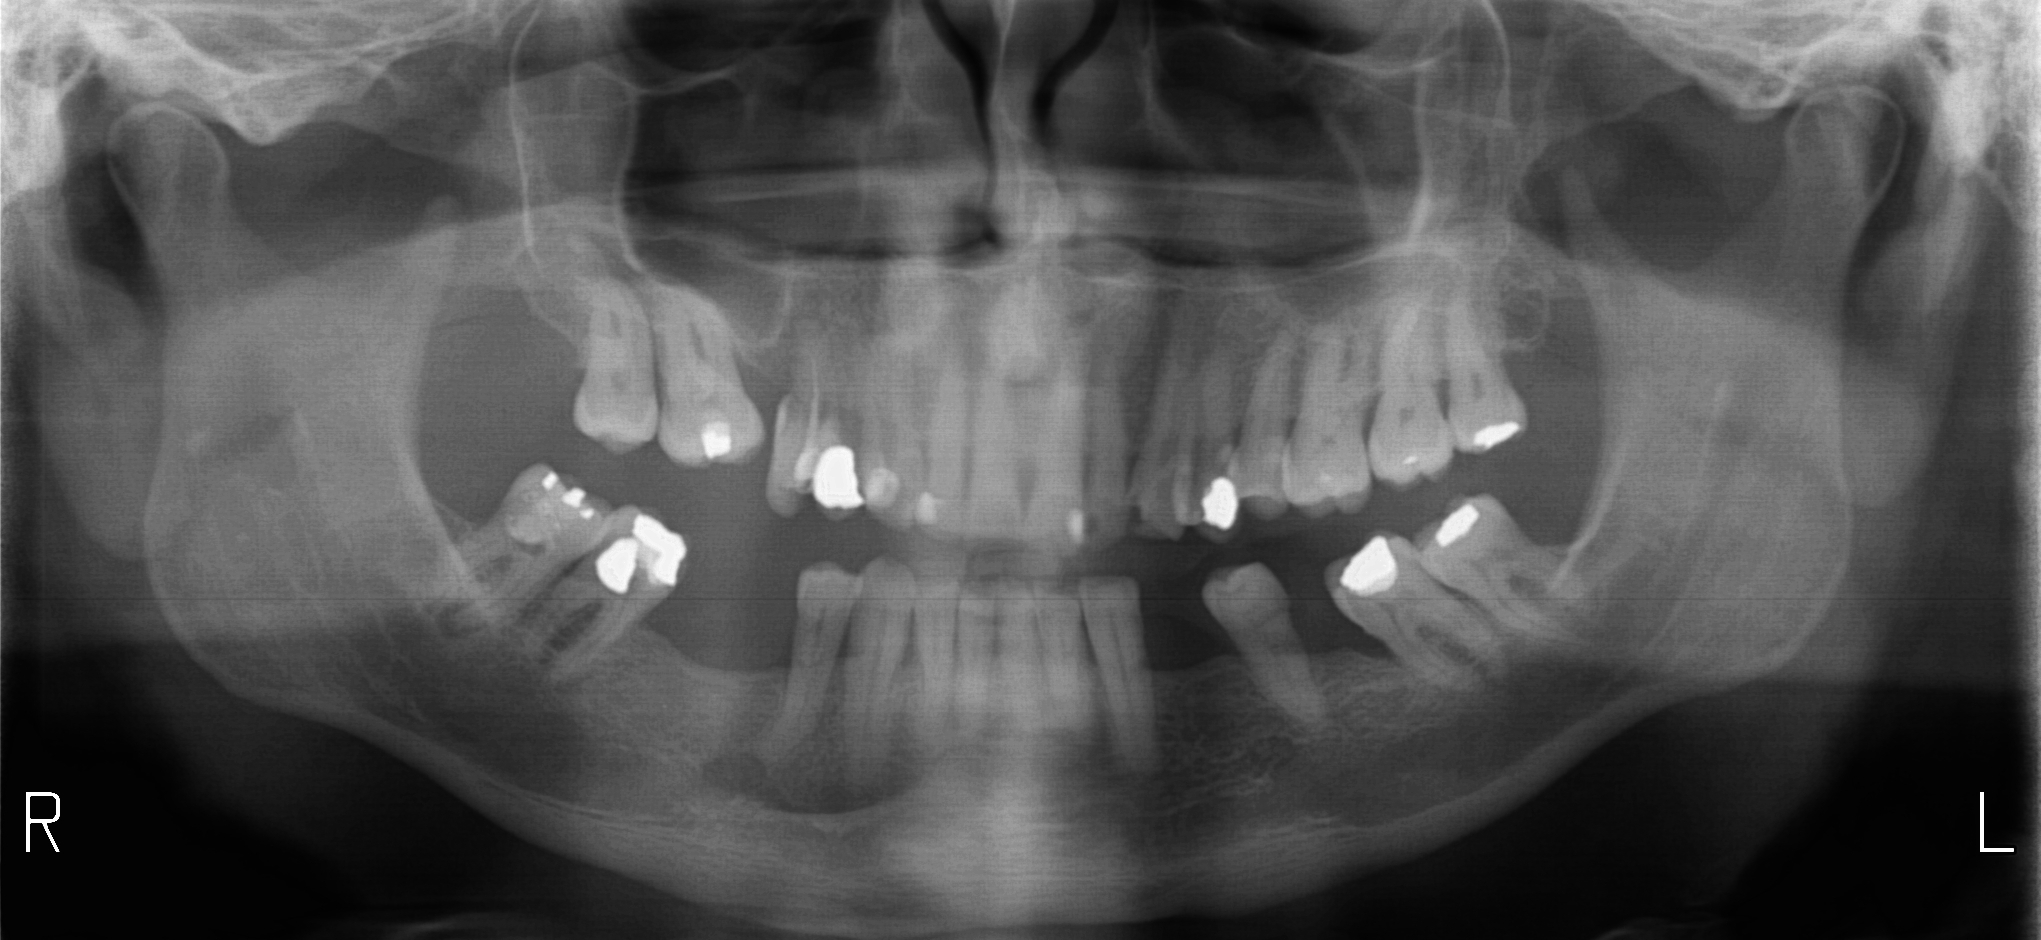cavity: (1267, 633, 1306, 648), (847, 616, 859, 654), (1086, 517, 1096, 542), (1132, 504, 1145, 521), (1138, 650, 1145, 661)
